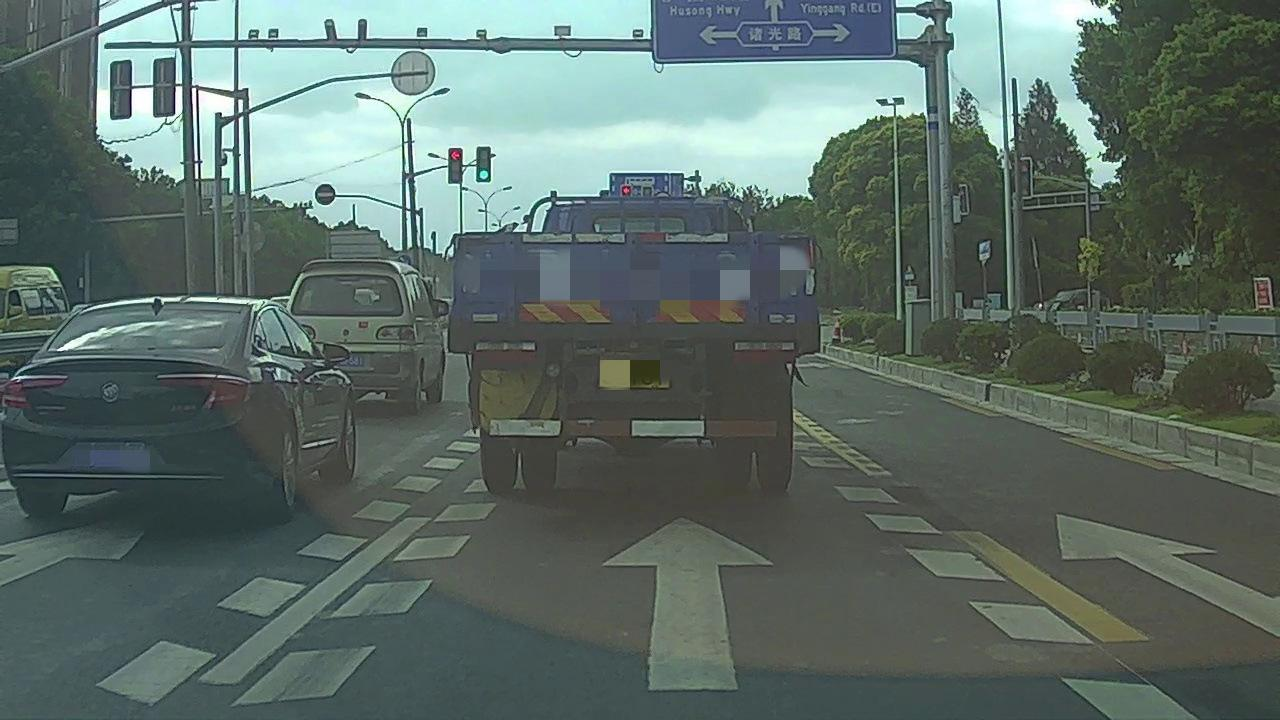traffic_light: (448, 148, 460, 184), (478, 147, 489, 181)
